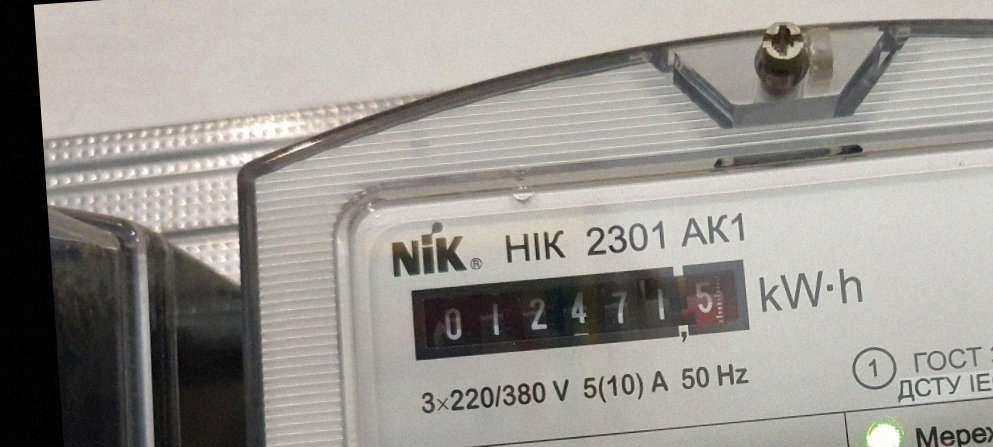0: (439, 303, 465, 341)
1: (488, 300, 502, 336), (653, 284, 666, 321)
2: (526, 294, 549, 331)
4: (567, 288, 588, 325)
5: (692, 275, 716, 315)
7: (607, 286, 630, 326)
screen: (398, 248, 762, 369)
